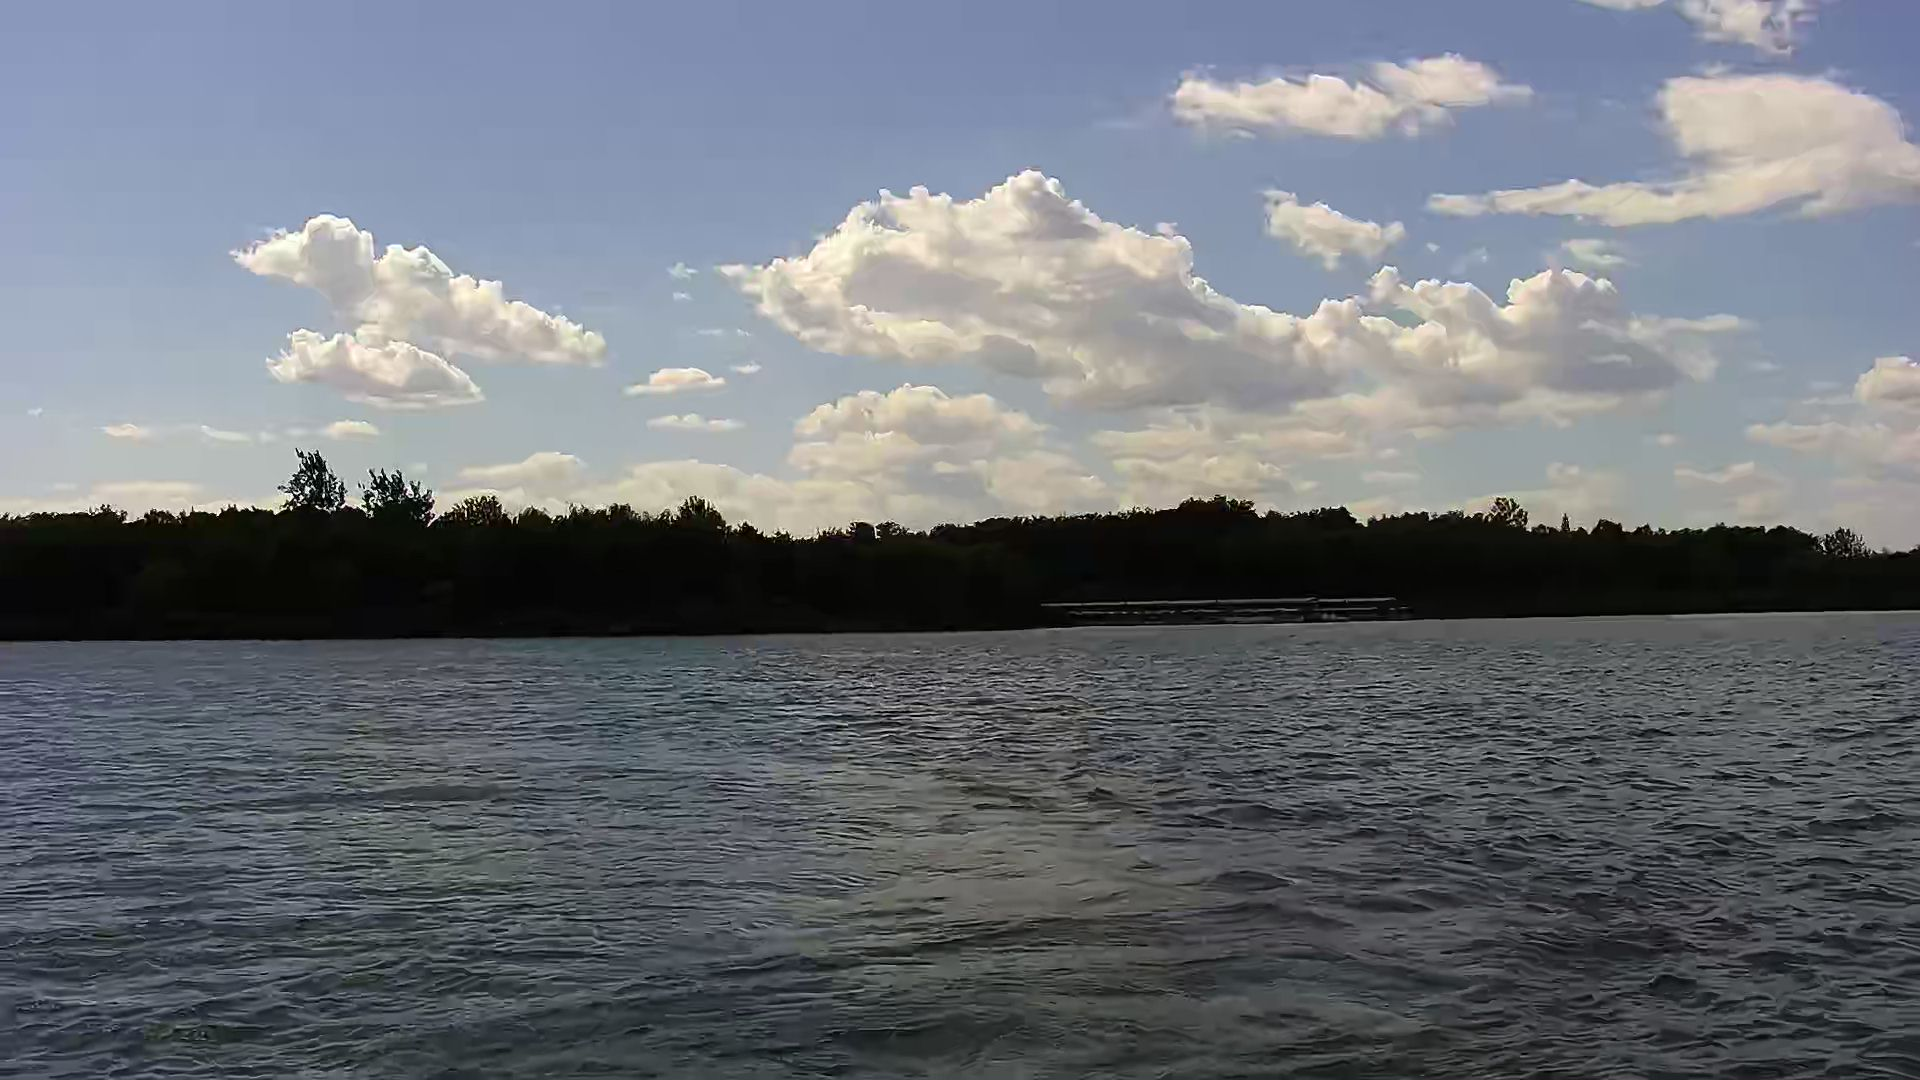harbor: (1054, 592, 1400, 626)
